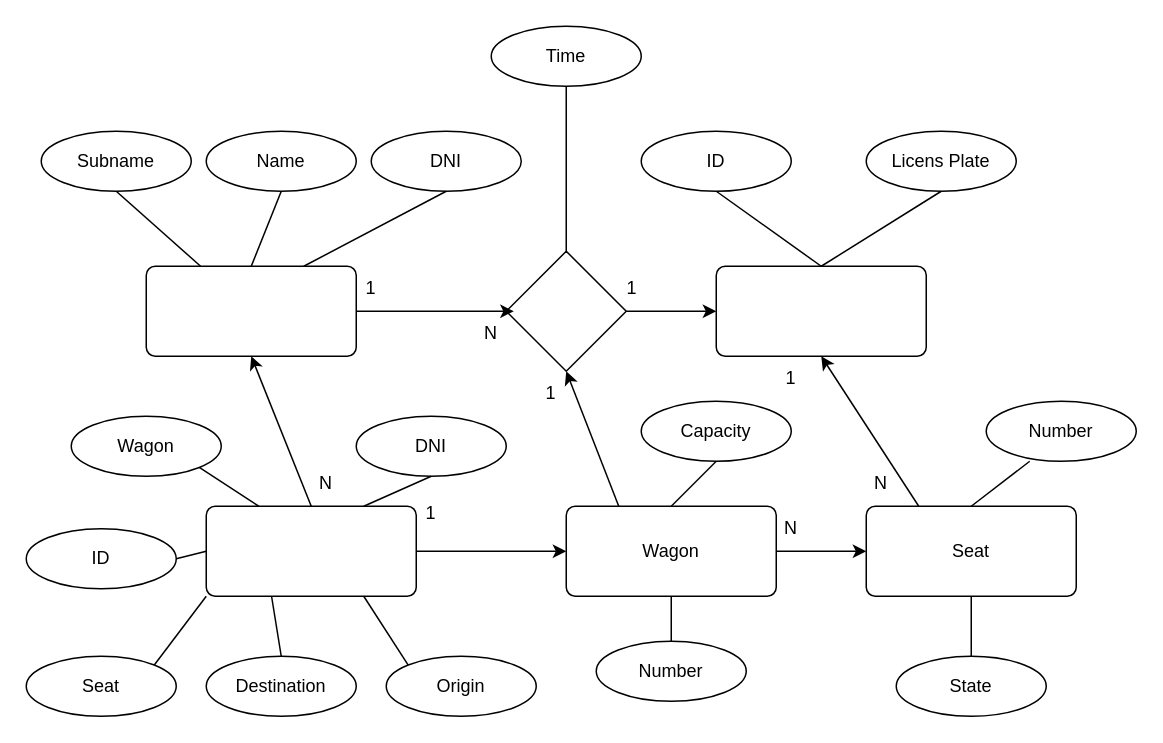
This 1163x743 diagram has some shape labels left out. Here are the shapes that lost their labels. From the top down, the centre of each, then its label:
(x=250, y=310): Passagers
(x=565, y=310): Travel
(x=820, y=310): Train
(x=310, y=550): Ticket
